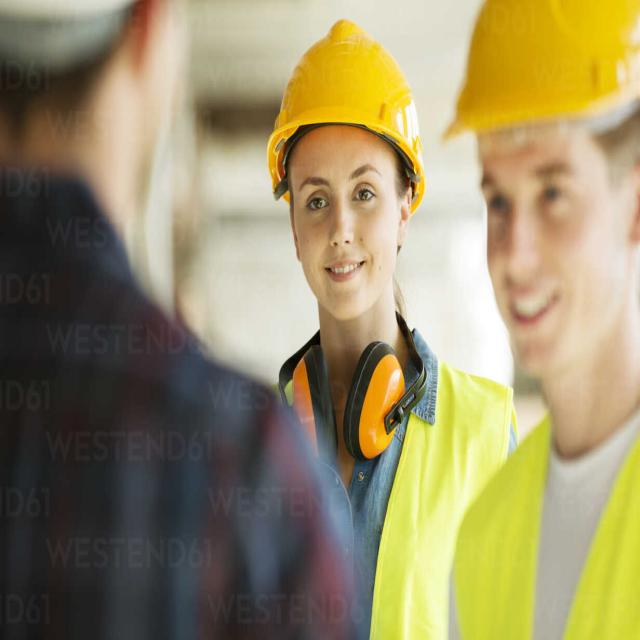helmet: (439, 0, 640, 374), (267, 16, 429, 316)
